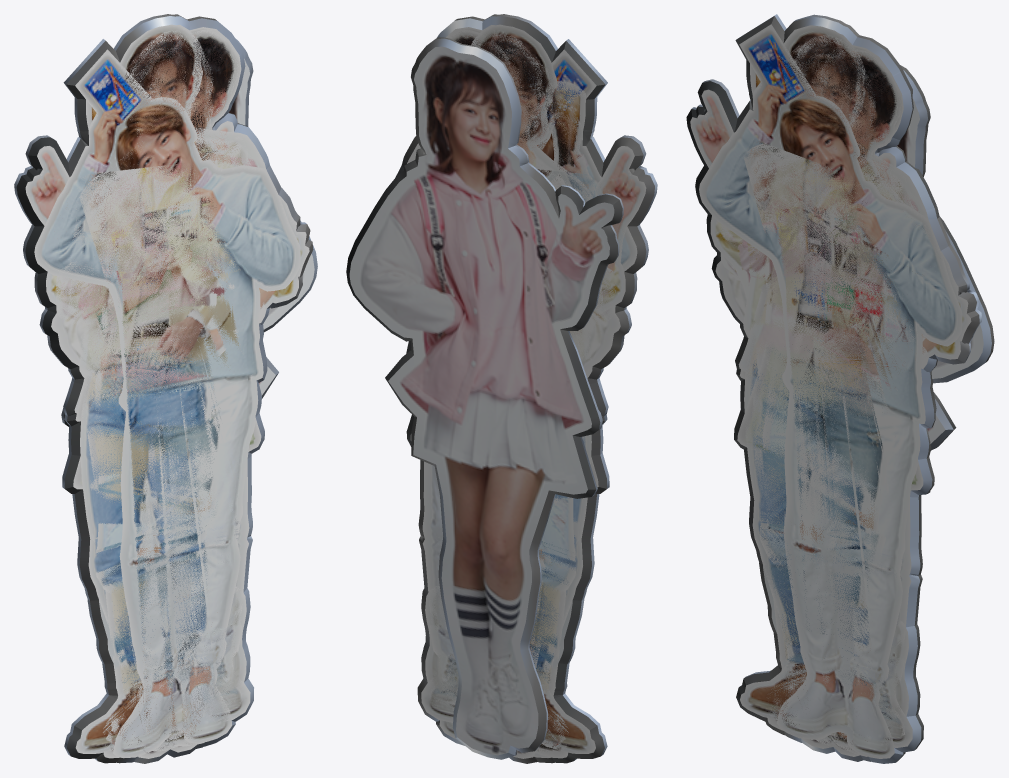
File: panel_exok_3.FBX
3 views of the same model, side by side, from view 1: azimuth 30°, elevation 25°; view 2: azimuth 150°, elevation 25°; view 3: azimuth 330°, elevation 25° (orthographic).
Visible parts, largest first — view 1: panel_exok_2, panel_exok_3, panel_exok_1, panel_joinsung_1, panel_exok_4, panel_exok_6, panel_exok_5, panel_hayeonsoo_1, panel_sejeong_3; view 2: panel_sejeong_3, panel_exok_1, panel_exok_3, panel_joinsung_1, panel_exok_2, panel_exok_4, panel_exok_5, panel_hayeonsoo_1, panel_exok_6; view 3: panel_exok_2, panel_exok_3, panel_exok_1, panel_joinsung_1, panel_exok_6, panel_exok_5, panel_exok_4, panel_hayeonsoo_1, panel_sejeong_3.
Boxes of the visible parts, x1=… form: panel_exok_2: x1=23, y1=39, x2=300, y2=763; panel_exok_3: x1=14, y1=30, x2=313, y2=758; panel_exok_1: x1=39, y1=14, x2=269, y2=742; panel_joinsung_1: x1=64, y1=34, x2=251, y2=763; panel_exok_4: x1=68, y1=16, x2=269, y2=751; panel_exok_6: x1=45, y1=48, x2=240, y2=738; panel_exok_5: x1=63, y1=47, x2=235, y2=750; panel_hayeonsoo_1: x1=62, y1=30, x2=264, y2=763; panel_sejeong_3: x1=61, y1=38, x2=317, y2=426; panel_sejeong_3: x1=346, y1=37, x2=623, y2=759; panel_exok_1: x1=404, y1=14, x2=631, y2=722; panel_exok_3: x1=438, y1=30, x2=657, y2=758; panel_joinsung_1: x1=480, y1=33, x2=607, y2=763; panel_exok_2: x1=395, y1=39, x2=648, y2=763; panel_exok_4: x1=401, y1=16, x2=601, y2=751; panel_exok_5: x1=487, y1=47, x2=608, y2=749; panel_hayeonsoo_1: x1=406, y1=30, x2=609, y2=763; panel_exok_6: x1=431, y1=48, x2=626, y2=713; panel_exok_2: x1=695, y1=14, x2=962, y2=763; panel_exok_3: x1=686, y1=48, x2=981, y2=747; panel_exok_1: x1=711, y1=14, x2=938, y2=752; panel_joinsung_1: x1=736, y1=36, x2=914, y2=761; panel_exok_6: x1=717, y1=44, x2=908, y2=735; panel_exok_5: x1=735, y1=53, x2=921, y2=736; panel_exok_4: x1=735, y1=35, x2=939, y2=746; panel_hayeonsoo_1: x1=734, y1=34, x2=934, y2=761; panel_sejeong_3: x1=897, y1=65, x2=994, y2=493.
Bounding box in the file's own units: 91.24 × 213 × 5.94.
Materials: 10 (10 with a texture image).
